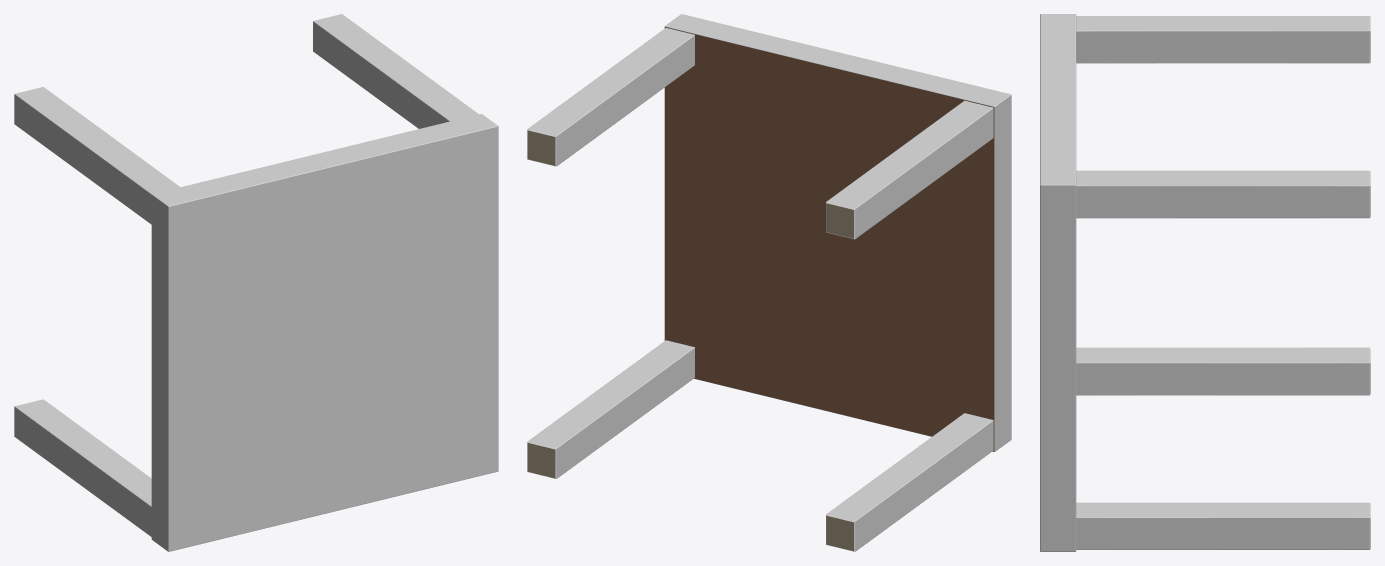
File: LACK_30449908_55x55.obj
3 renders of one model, left to right at view 1: azimuth 30°, elevation 25°; view 2: azimuth 150°, elevation 25°; view 3: azimuth 270°, elevation 25°, orthographic. The views are drawn at different scales.
Visible parts, largest first — view 1: table_top_00167769, table_leg_00167768_005, table_leg_00167768_006, table_leg_00167768_001; view 2: table_top_00167769, table_leg_00167768_005, table_leg_00167768_001, table_leg_00167768_006, table_leg_00167768_007; view 3: table_top_00167769, table_leg_00167768_001, table_leg_00167768_006, table_leg_00167768_005, table_leg_00167768_007.
Boxes of the visible parts, bbox=[...] form: table_top_00167769: bbox=[151, 114, 498, 551]; table_leg_00167768_005: bbox=[14, 87, 180, 224]; table_leg_00167768_006: bbox=[14, 399, 151, 536]; table_leg_00167768_001: bbox=[313, 14, 478, 128]; table_top_00167769: bbox=[664, 14, 1011, 451]; table_leg_00167768_005: bbox=[826, 100, 993, 239]; table_leg_00167768_001: bbox=[527, 28, 694, 166]; table_leg_00167768_006: bbox=[826, 413, 993, 551]; table_leg_00167768_007: bbox=[527, 340, 694, 478]; table_top_00167769: bbox=[1040, 14, 1076, 551]; table_leg_00167768_001: bbox=[1076, 170, 1370, 218]; table_leg_00167768_006: bbox=[1076, 347, 1370, 395]; table_leg_00167768_005: bbox=[1076, 16, 1370, 63]; table_leg_00167768_007: bbox=[1076, 502, 1370, 549].
Bounding box in the file's own units: 0.55 × 0.55 × 0.449.
